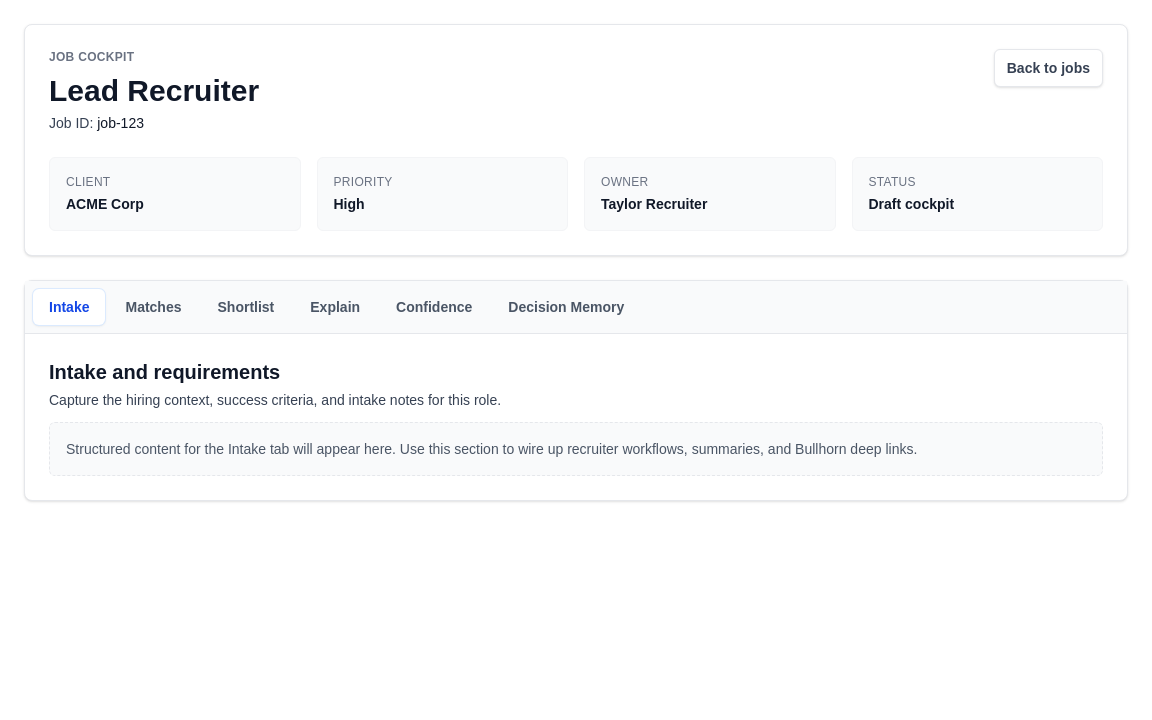
it: JobDetailCockpit › switches tabs to show the selected content
The image size is (1152, 720).
Check: the panel shows "Intake and requirements", box [49,361,280,383]
Click the tab "Shortlist" at (246, 307), box [202,289,290,325]
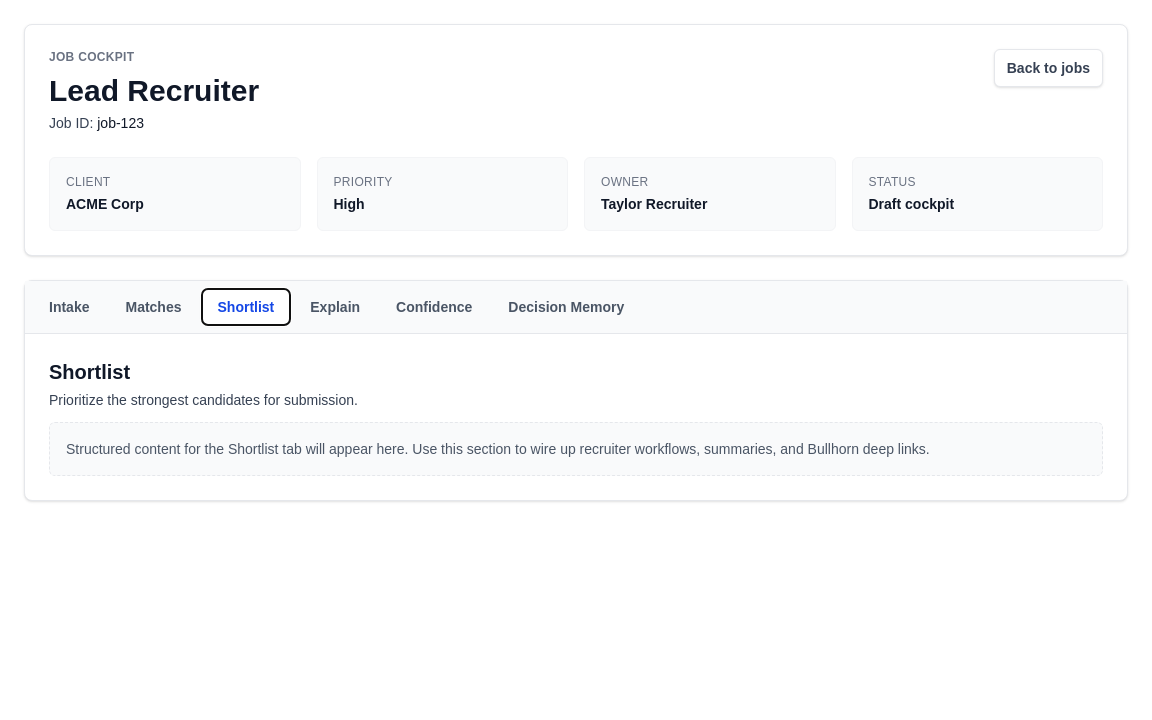
Check: the panel shows "Prioritize the strongest candidates", box [49,392,358,408]
